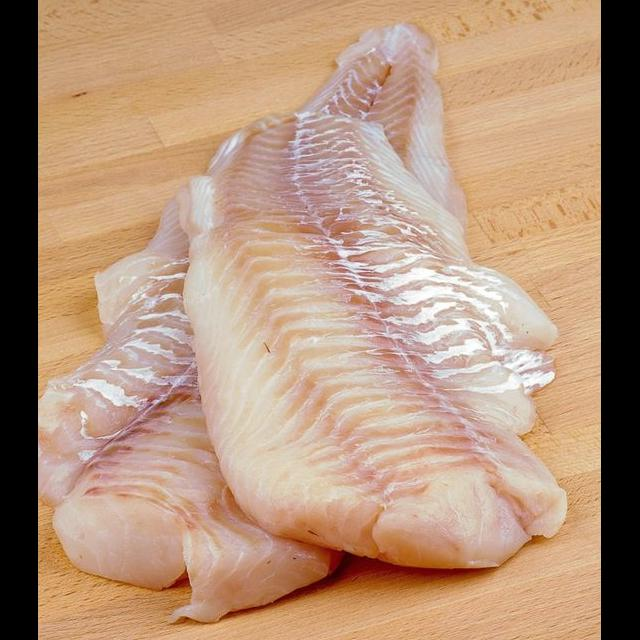fish: (184, 99, 583, 598)
